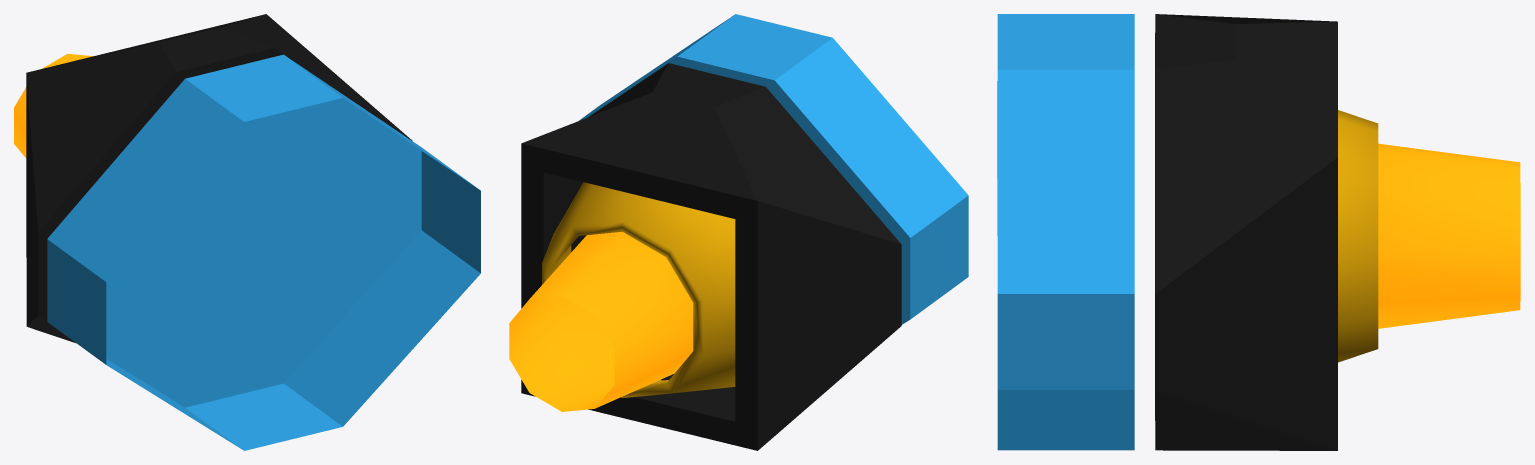
File: teleport.glb
The picture shows the model from 3 angles, left to right: view 1: azimuth 30°, elevation 25°; view 2: azimuth 150°, elevation 25°; view 3: azimuth 270°, elevation 25°; orthographic projection. The views are drawn at different scales.
Parts seen in each view (by area): view 1: Plane.004, boost-part.004; view 2: Plane.004, boost-part.004; view 3: Plane.004, boost-part.004.
Boxes of the visible parts, left/top/right/bottom form: Plane.004: left=26, top=14, right=480, bottom=450; boost-part.004: left=14, top=53, right=92, bottom=157; Plane.004: left=521, top=14, right=968, bottom=450; boost-part.004: left=509, top=231, right=693, bottom=411; Plane.004: left=997, top=14, right=1378, bottom=450; boost-part.004: left=1378, top=143, right=1520, bottom=328.
Size of the model in its own units: 0.1527 by 0.1281 by 0.1595.
